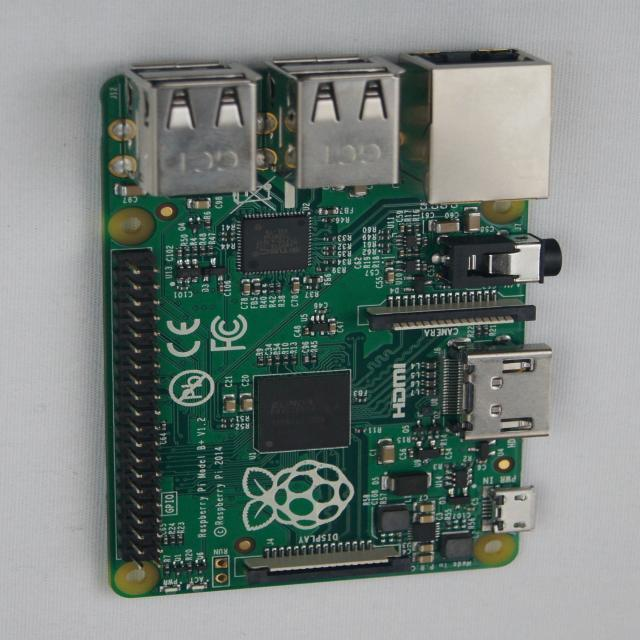Raspberry Pi 1 B-: (102, 50, 562, 597)
